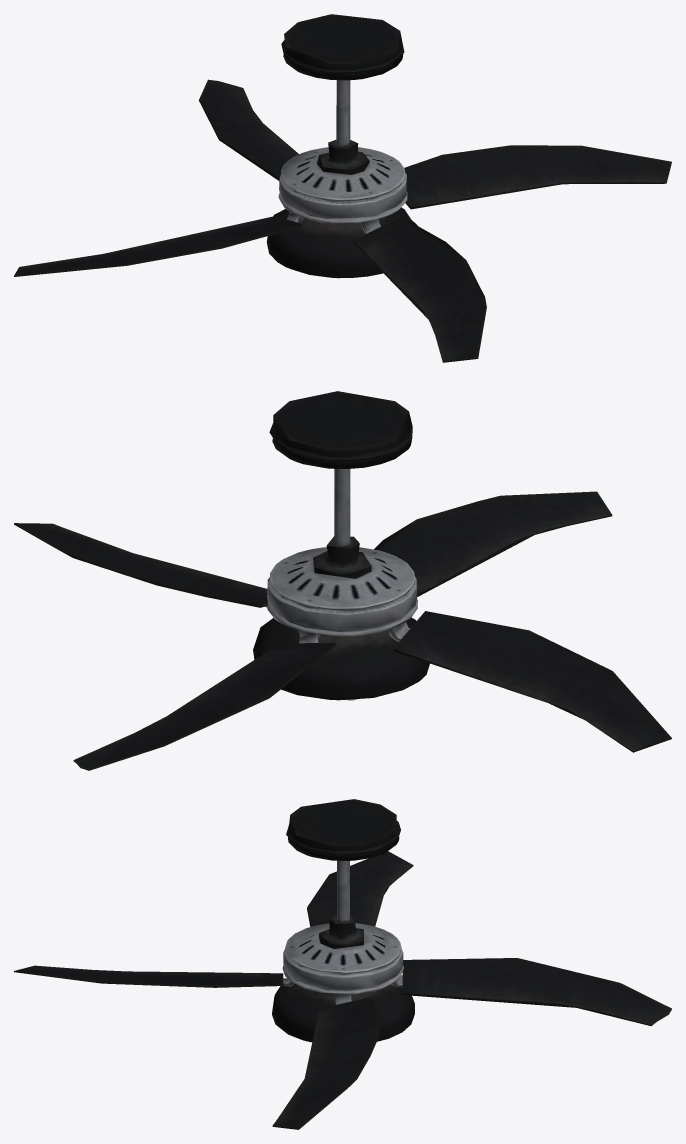
File: ceiling_fan.lod1.glb
The picture shows the model from 3 angles, top to bottom: view 1: azimuth 30°, elevation 25°; view 2: azimuth 150°, elevation 25°; view 3: azimuth 270°, elevation 25°; orthographic projection. The views are drawn at different scales.
Parts seen in each view (by area): view 1: ceiling_fan_blades, ceiling_fan; view 2: ceiling_fan_blades, ceiling_fan; view 3: ceiling_fan_blades, ceiling_fan.
Part boxes in pixels (<box>): ceiling_fan_blades: <box>14,79,671,362</box>; ceiling_fan: <box>266,14,417,278</box>; ceiling_fan_blades: <box>14,491,671,770</box>; ceiling_fan: <box>253,391,429,700</box>; ceiling_fan_blades: <box>14,851,671,1129</box>; ceiling_fan: <box>272,799,414,1042</box>.
Bounding box in the file's own units: 1.46 × 0.5136 × 1.46.
1 material, 1 textured.
